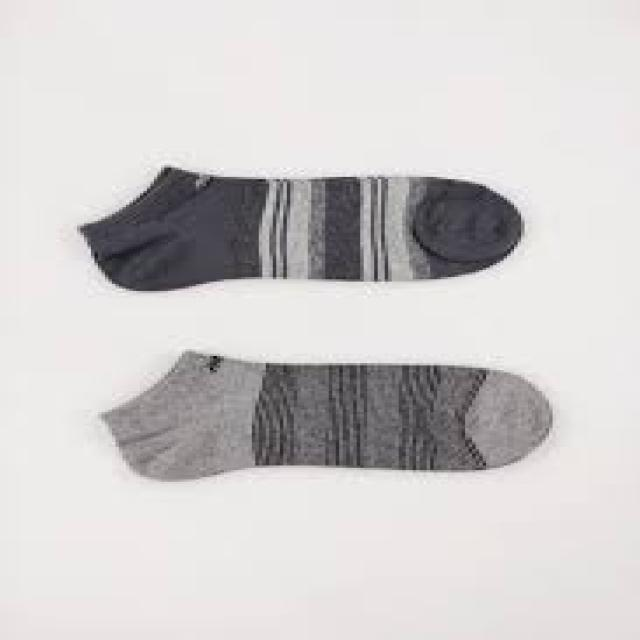sock: (98, 349, 552, 480), (77, 163, 525, 291)
